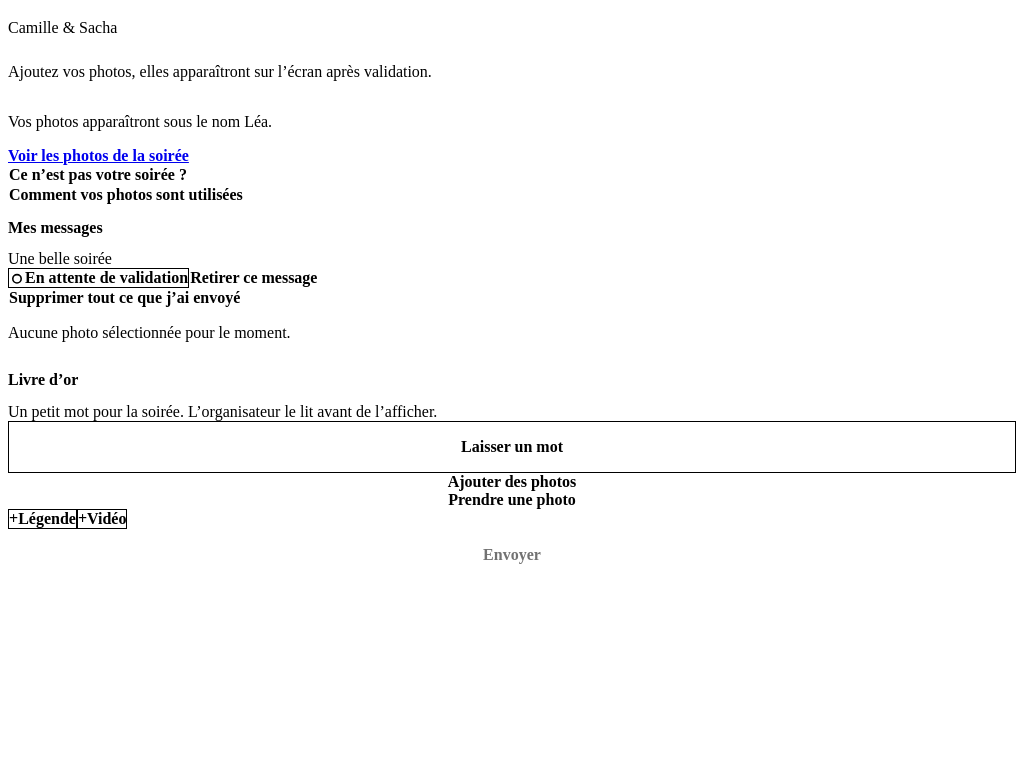
Scenario: GuestUploadPage, the guestbook › asks before taking a message back, then says it is gone and reads the list again
Click the button "Retirer ce message": [254, 278] box [189,269,318,287]
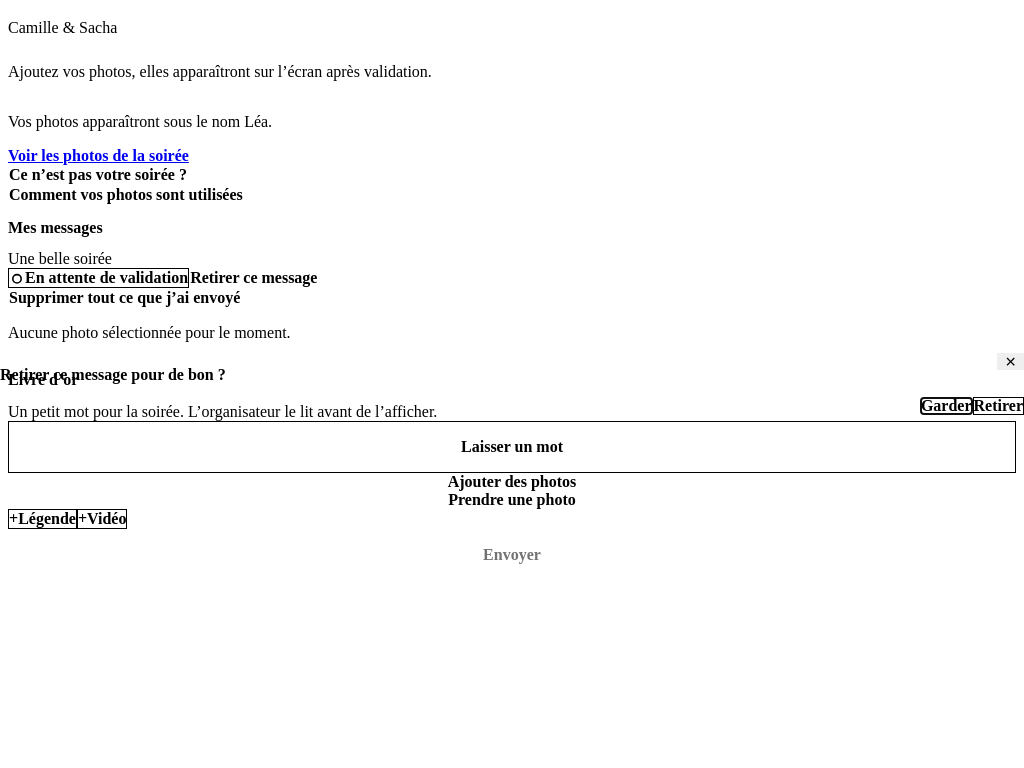
Click the button "Retirer": [998, 406] box [972,397,1023,415]
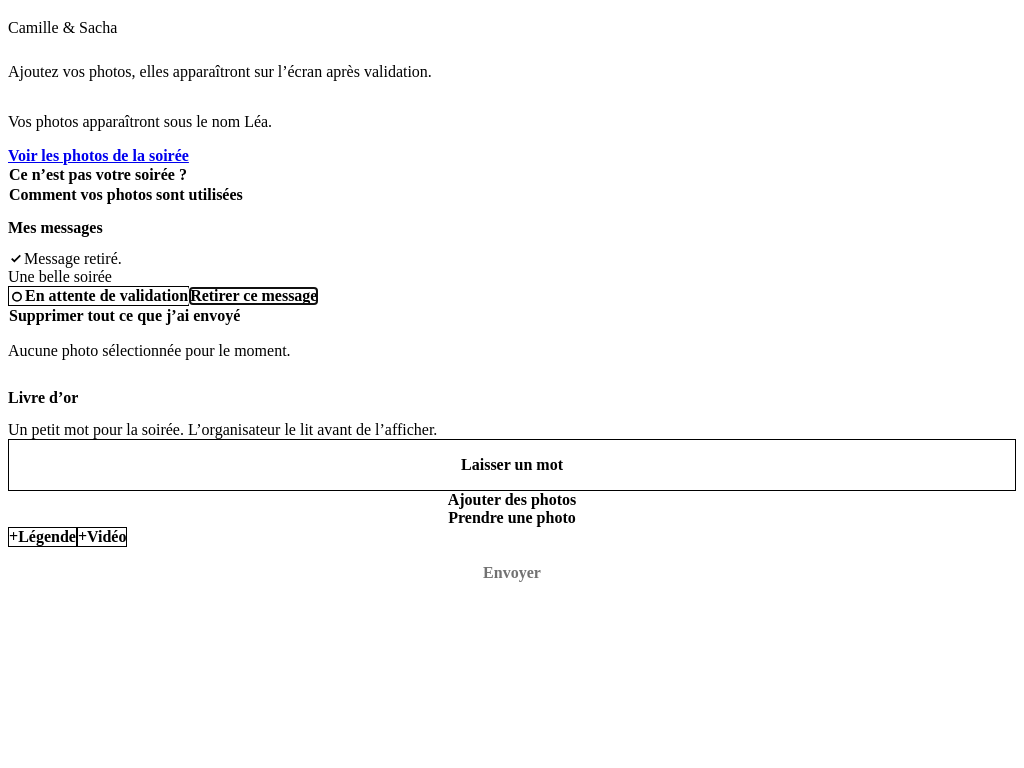
Check: the text "Message retiré." is shown, box [24,250,122,268]
